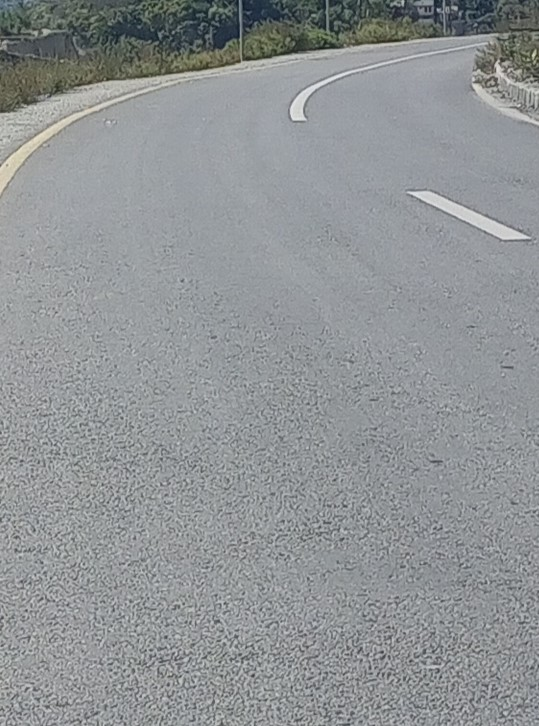rightTrun: (7, 20, 506, 474)
